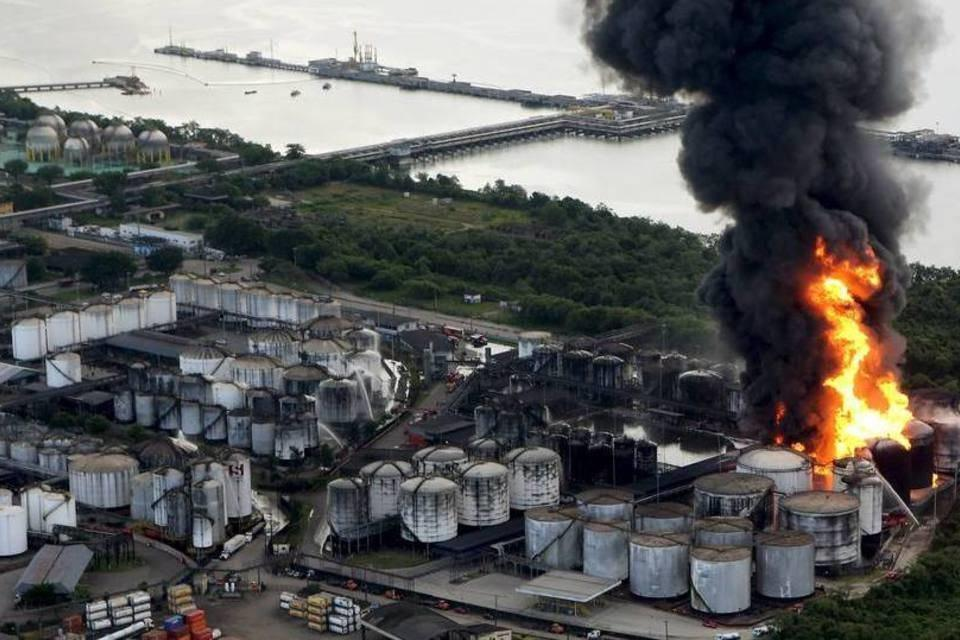fire: (655, 4, 905, 226), (786, 228, 957, 458)
